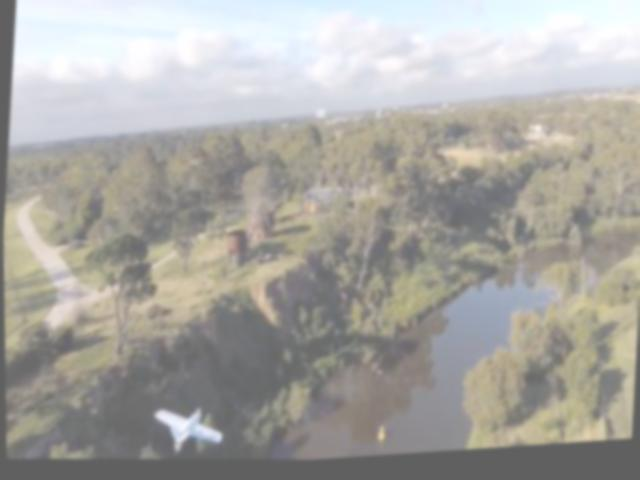uav: (149, 403, 222, 462)
